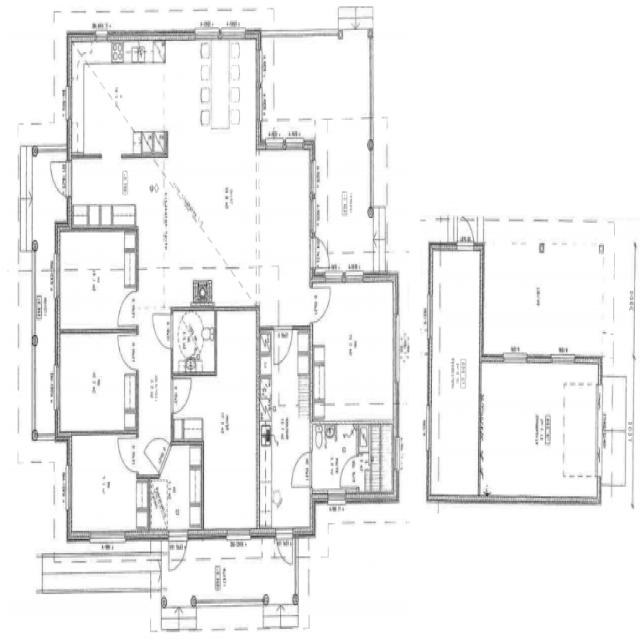door: (289, 447, 314, 492), (309, 281, 333, 326), (144, 436, 170, 476), (170, 373, 193, 418), (48, 157, 72, 199), (116, 330, 140, 372), (272, 324, 294, 369), (115, 287, 138, 330), (152, 309, 174, 352), (116, 433, 138, 476), (168, 528, 188, 574), (274, 526, 294, 570), (455, 214, 476, 254), (310, 234, 330, 272), (340, 454, 357, 492)
window: (87, 526, 127, 554), (259, 134, 302, 158), (307, 156, 320, 229), (365, 144, 377, 212), (223, 525, 254, 546), (424, 290, 436, 342), (424, 399, 434, 456), (64, 459, 74, 516), (52, 247, 62, 303), (53, 359, 63, 415), (501, 351, 529, 368), (63, 81, 74, 122), (218, 27, 246, 42), (326, 489, 348, 508), (550, 352, 576, 368), (194, 26, 219, 42), (254, 45, 263, 89), (342, 269, 364, 287), (255, 82, 264, 121), (393, 436, 402, 472), (93, 29, 110, 46)
zone: (155, 38, 261, 310), (172, 315, 261, 538), (480, 360, 600, 506), (311, 277, 397, 423), (432, 244, 482, 494), (71, 46, 166, 156), (265, 34, 373, 127), (257, 144, 312, 325), (258, 325, 311, 505), (320, 115, 373, 272), (57, 331, 137, 435), (57, 228, 137, 332), (68, 434, 141, 537), (69, 155, 166, 230), (148, 443, 205, 533), (311, 422, 358, 497), (357, 423, 396, 499), (172, 308, 216, 375)
